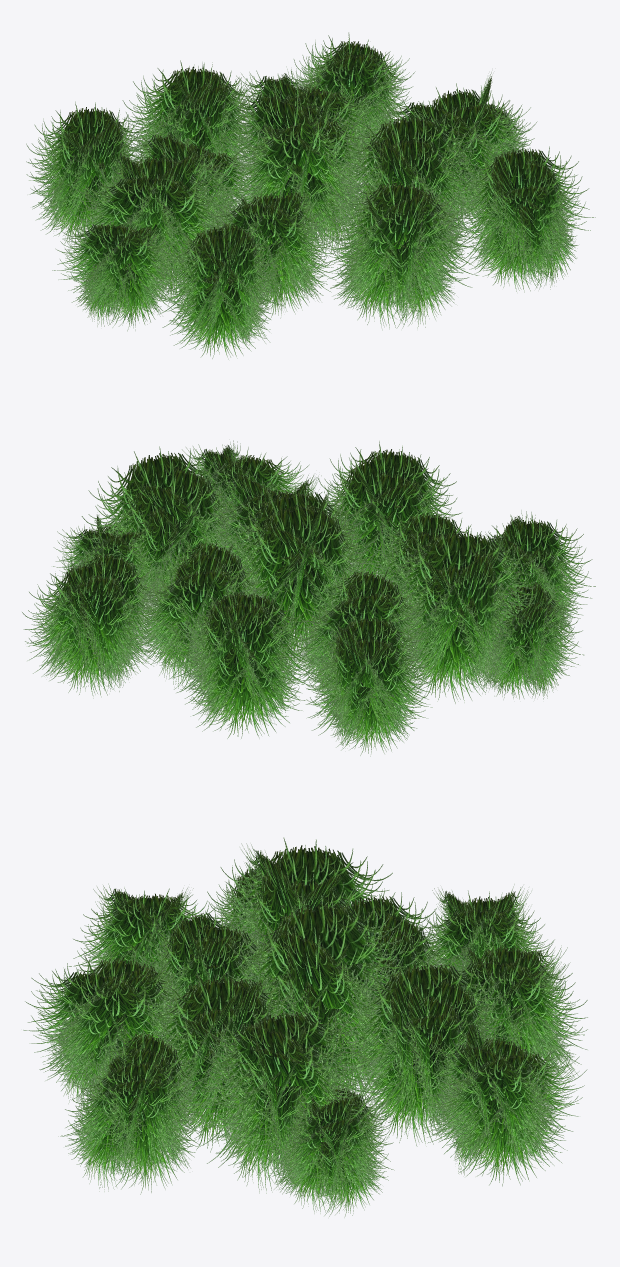
Rendered from grass_carpet.glb.
3 views of the same model, one above another, from view 1: azimuth 30°, elevation 25°; view 2: azimuth 150°, elevation 25°; view 3: azimuth 270°, elevation 25° (orthographic). The views are drawn at different scales.
Visible parts, largest first — view 1: grass_carpet_Mesh; view 2: grass_carpet_Mesh; view 3: grass_carpet_Mesh.
Part boxes in pixels (left/top/right/bottom): grass_carpet_Mesh: left=26, top=32, right=595, bottom=359; grass_carpet_Mesh: left=22, top=440, right=595, bottom=756; grass_carpet_Mesh: left=23, top=837, right=587, bottom=1217.
Size of the model in its own units: 2.75 by 0.9534 by 2.44.
Materials: 1 (1 with a texture image).
